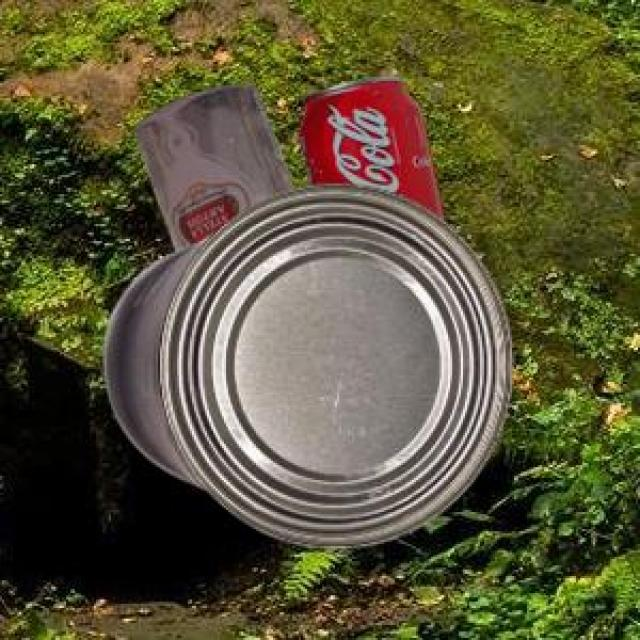logam: (101, 180, 509, 545), (131, 82, 291, 249), (298, 74, 441, 217)
